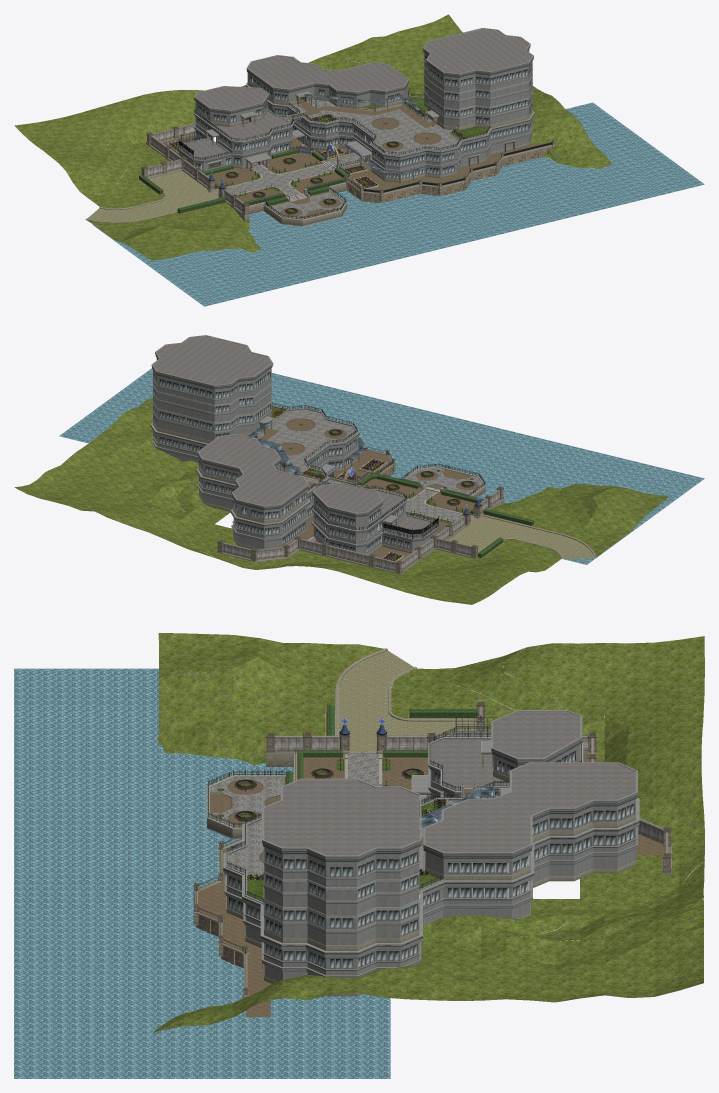
File: Ursula.glb
3 views of the same model, one above another, from view 1: azimuth 30°, elevation 25°; view 2: azimuth 150°, elevation 25°; view 3: azimuth 270°, elevation 25° (orthographic). The views are drawn at different scales.
Parts seen in each view (by area): view 1: obj_water, obj_field, oc2_wall, oc1_tiles, oc2_tiles, oc1_wall, window_daylight, oc2_sash, obj_fence01, oc1_road, oc1_pillar, obj_lowwood (+3 smaller); view 2: obj_field, obj_water, oc2_wall, oc2_tiles, oc1_tiles, window_daylight, oc1_wall, oc2_sash, oc1_road, obj_fence01, oc1_pillar, obj_lowwood (+3 smaller); view 3: obj_water, obj_field, oc2_wall, oc2_tiles, oc1_tiles, window_daylight, oc1_road, oc1_wall, oc2_sash, obj_fence01, oc1_pillar, obj_lowwood.
Part boxes in pixels (left/top/right/bottom): obj_water: left=92, top=102, right=704, bottom=306; obj_field: left=14, top=14, right=612, bottom=260; oc2_wall: left=178, top=28, right=534, bottom=182; oc1_tiles: left=139, top=96, right=550, bottom=219; oc2_tiles: left=180, top=28, right=531, bottom=159; oc1_wall: left=146, top=85, right=552, bottom=226; window_daylight: left=196, top=56, right=531, bottom=178; oc2_sash: left=195, top=55, right=532, bottom=179; obj_fence01: left=178, top=92, right=551, bottom=219; oc1_road: left=85, top=170, right=218, bottom=222; oc1_pillar: left=141, top=115, right=555, bottom=214; obj_lowwood: left=139, top=148, right=347, bottom=213; obj_field: left=14, top=395, right=668, bottom=604; obj_water: left=59, top=368, right=704, bottom=564; oc2_wall: left=150, top=335, right=439, bottom=554; oc2_tiles: left=153, top=336, right=435, bottom=538; oc1_tiles: left=226, top=406, right=535, bottom=561; window_daylight: left=154, top=372, right=410, bottom=552; oc1_wall: left=217, top=423, right=504, bottom=574; oc2_sash: left=153, top=371, right=409, bottom=552; oc1_road: left=448, top=514, right=596, bottom=559; obj_fence01: left=246, top=402, right=485, bottom=539; oc1_pillar: left=217, top=449, right=503, bottom=573; obj_lowwood: left=358, top=474, right=533, bottom=557; obj_water: left=14, top=668, right=390, bottom=1078; obj_field: left=153, top=633, right=704, bottom=1033; oc2_wall: left=223, top=710, right=639, bottom=996; oc2_tiles: left=264, top=711, right=635, bottom=855; oc1_tiles: left=198, top=711, right=664, bottom=1017; window_daylight: left=229, top=751, right=633, bottom=968; oc1_road: left=335, top=648, right=476, bottom=752; oc1_wall: left=194, top=706, right=671, bottom=987; oc2_sash: left=228, top=750, right=634, bottom=968; obj_fence01: left=196, top=715, right=581, bottom=954; oc1_pillar: left=193, top=701, right=671, bottom=998; obj_lowwood: left=286, top=705, right=478, bottom=784.
Bounding box in the file's own units: 160 × 29.62 × 112.
Materials: 59 (57 with a texture image).
